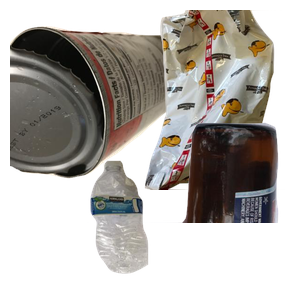glass: (87, 120, 300, 300)
metal: (10, 23, 193, 194)
plastic: (88, 158, 229, 300)
trash: (127, 10, 300, 190)
